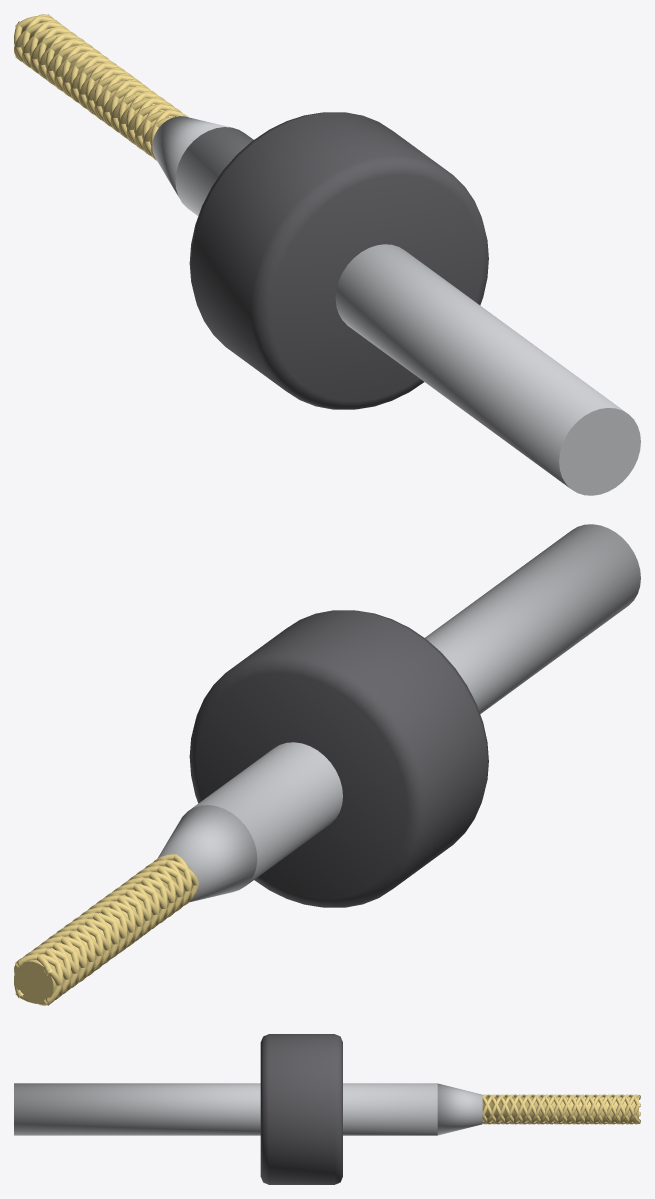
The model's file is corn18_1p8.glb.
The picture shows the model from 3 angles, top to bottom: view 1: azimuth 30°, elevation 25°; view 2: azimuth 150°, elevation 25°; view 3: azimuth 270°, elevation 25°; orthographic projection. The views are drawn at different scales.
Parts seen in each view (by area): view 1: Cylinder.002, Cylinder.001, Cone, flute.002, flute.005, flute.007, flute, flute.004, flute.003, flute.001, flute.006, Cylinder; view 2: Cylinder.002, Cylinder.001, Cone, Cylinder, flute.002, flute.005, flute.007, flute, flute.004, flute.003, flute.001, flute.006; view 3: Cylinder.001, Cylinder.002, Cone, Cylinder, flute.003, flute, flute.006, flute.005, flute.001, flute.002, flute.004, flute.007.
Part boxes in pixels (left/top/right/bottom): Cylinder.002: left=189, top=112, right=488, bottom=409; Cylinder.001: left=175, top=127, right=640, bottom=495; Cone: left=152, top=116, right=231, bottom=195; flute.002: left=14, top=22, right=174, bottom=153; flute.005: left=22, top=14, right=180, bottom=145; flute.007: left=14, top=21, right=172, bottom=160; flute: left=15, top=16, right=187, bottom=148; flute.004: left=22, top=28, right=174, bottom=159; flute.003: left=30, top=20, right=187, bottom=150; flute.001: left=15, top=26, right=164, bottom=156; flute.006: left=30, top=14, right=181, bottom=142; Cylinder: left=21, top=21, right=172, bottom=145; Cylinder.002: left=189, top=610, right=488, bottom=907; Cylinder.001: left=189, top=524, right=640, bottom=885; Cone: left=157, top=805, right=257, bottom=902; Cylinder: left=14, top=859, right=193, bottom=1003; flute.002: left=33, top=854, right=191, bottom=1005; flute.005: left=15, top=859, right=198, bottom=991; flute.007: left=39, top=865, right=191, bottom=997; flute: left=25, top=858, right=183, bottom=988; flute.004: left=15, top=870, right=198, bottom=1003; flute.003: left=14, top=854, right=175, bottom=998; flute.001: left=31, top=871, right=183, bottom=1005; flute.006: left=14, top=864, right=175, bottom=993; Cylinder.001: left=14, top=1083, right=437, bottom=1135; Cylinder.002: left=260, top=1034, right=342, bottom=1184; Cone: left=437, top=1083, right=482, bottom=1135; Cylinder: left=482, top=1097, right=638, bottom=1121; flute.003: left=482, top=1094, right=640, bottom=1124; flute: left=482, top=1094, right=640, bottom=1124; flute.006: left=482, top=1094, right=640, bottom=1124; flute.005: left=487, top=1094, right=640, bottom=1124; flute.001: left=482, top=1094, right=640, bottom=1124; flute.002: left=482, top=1094, right=640, bottom=1124; flute.004: left=491, top=1094, right=640, bottom=1124; flute.007: left=496, top=1094, right=640, bottom=1124.
Bounding box in the file's own units: 0.00917 × 0.00917 × 0.0381.
